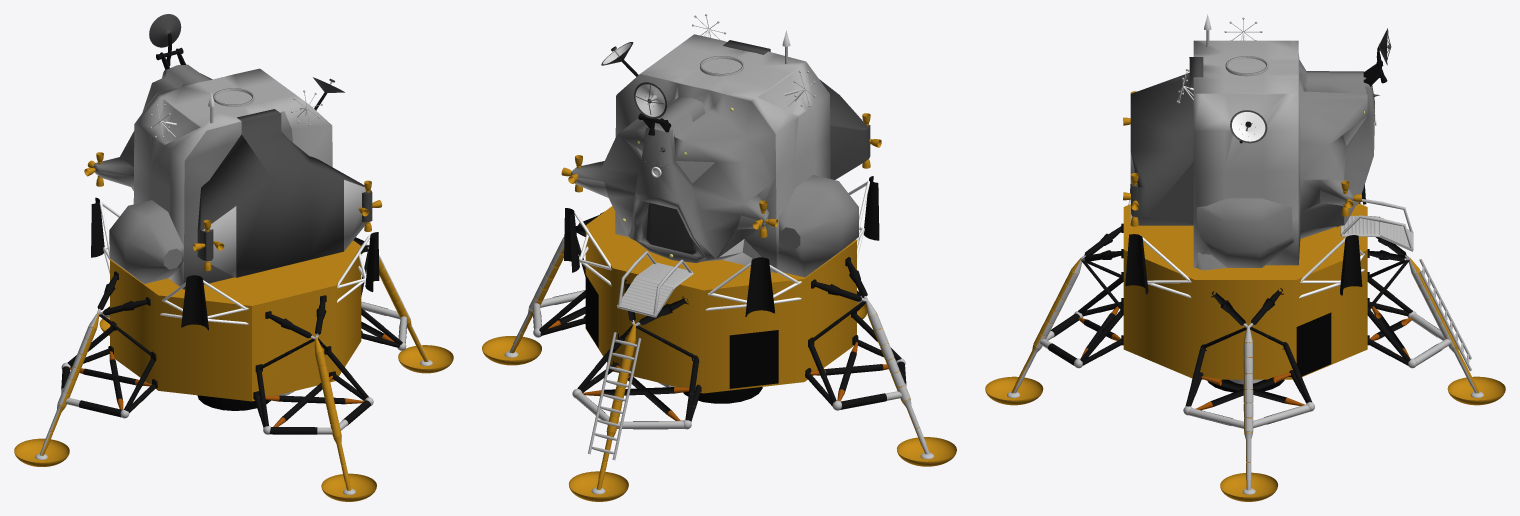
File: LEM-combined.obj
3 renders of one model, left to right at view 1: azimuth 30°, elevation 25°; view 2: azimuth 150°, elevation 25°; view 3: azimuth 270°, elevation 25°, orthographic. The views are drawn at different scales.
Visible parts, largest first — view 1: lander:group13_grtransform2; view 2: lander:group13_grtransform2; view 3: lander:group13_grtransform2.
Boxes of the visible parts, x1,y1,x2,y2 form: lander:group13_grtransform2: (14, 14, 453, 501); lander:group13_grtransform2: (482, 14, 956, 501); lander:group13_grtransform2: (985, 14, 1505, 501).
Size of the model in its own units: 6.43 by 5.01 by 6.43.
